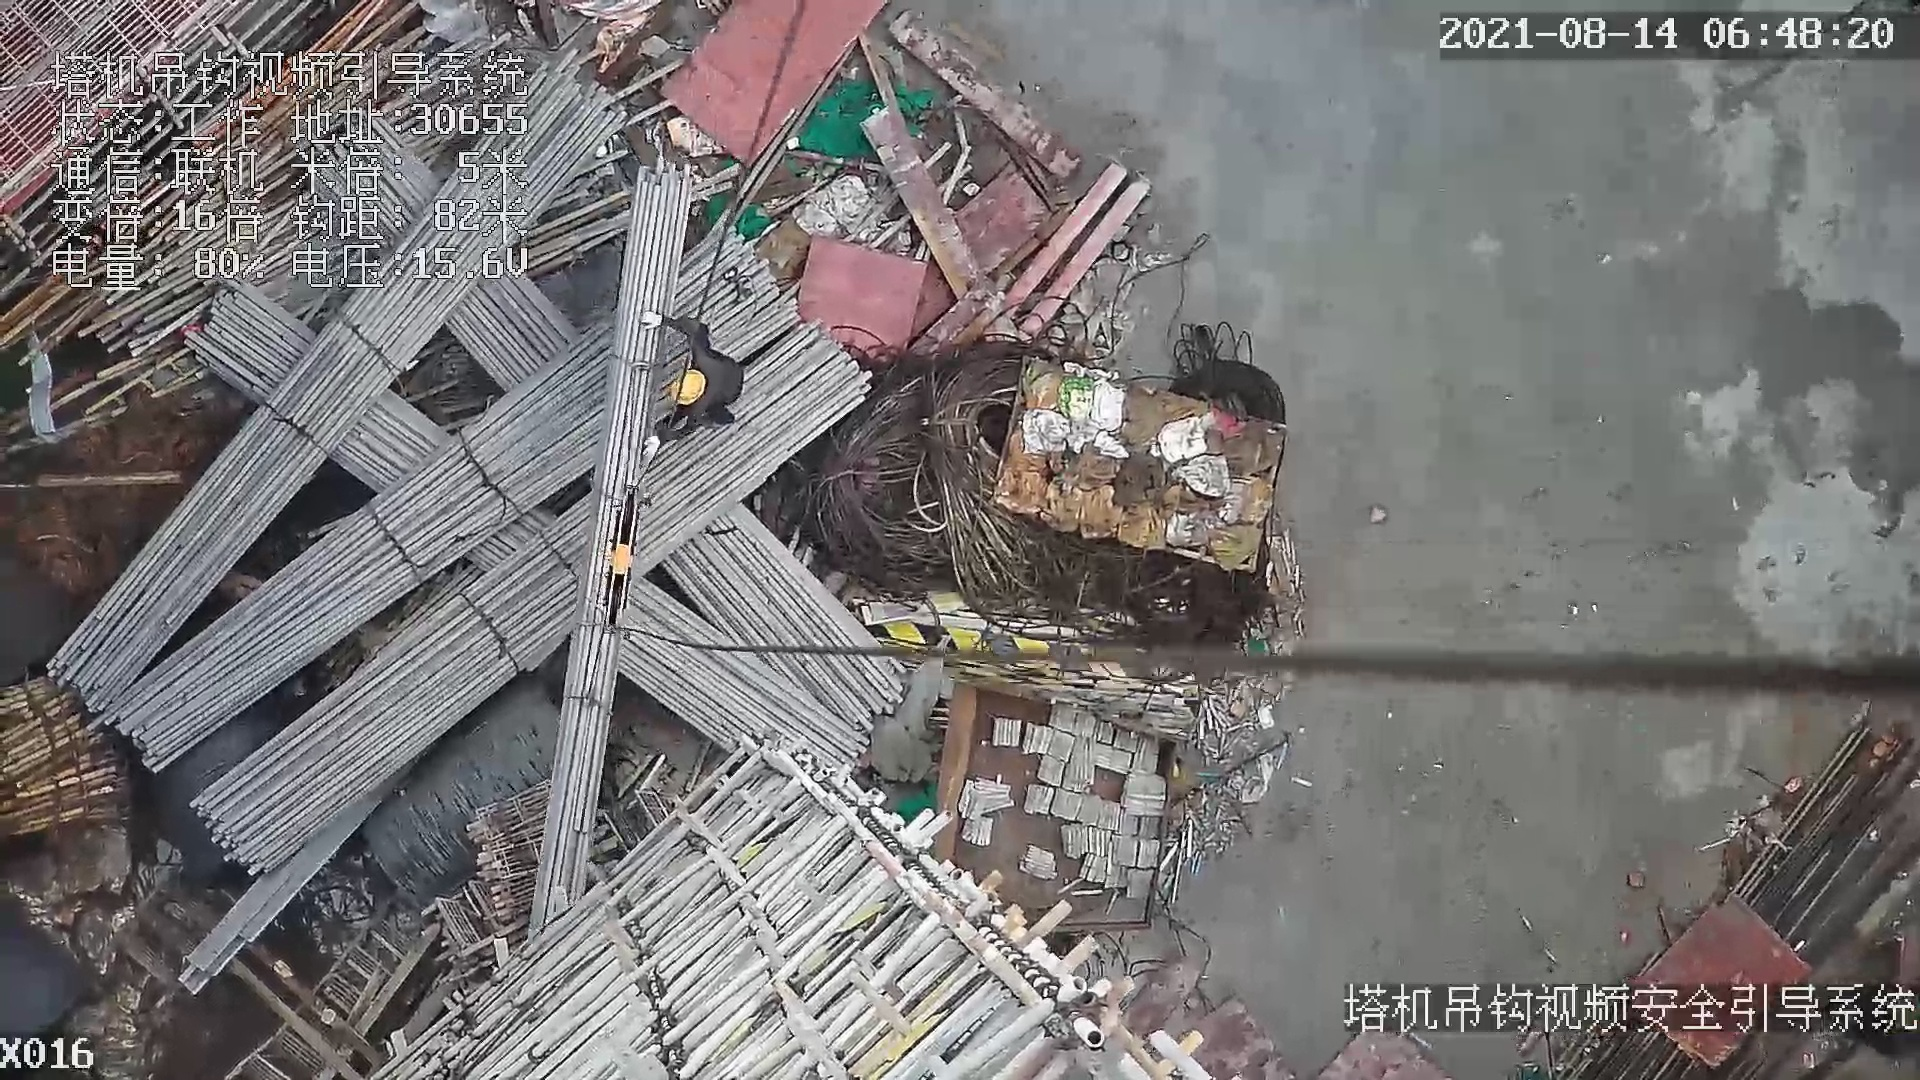board: (662, 1, 885, 171)
helmet: (670, 363, 707, 409)
hook: (601, 474, 644, 637)
person: (638, 301, 741, 477)
scaffold: (1, 668, 140, 826)
